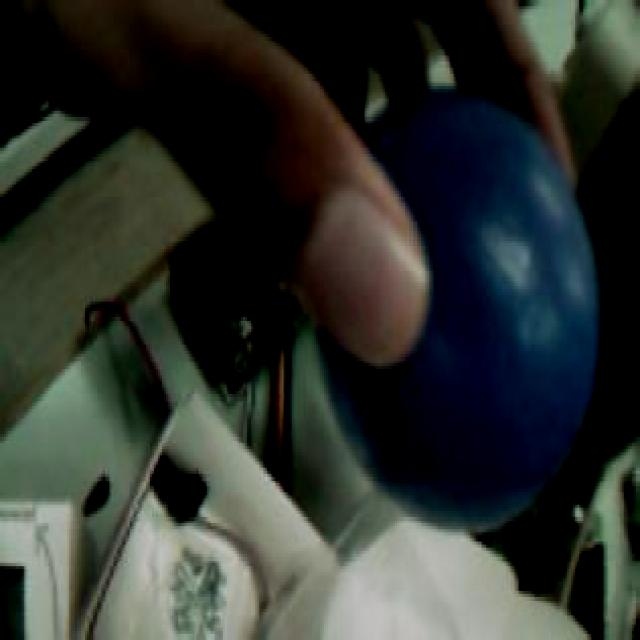BallPurple: (317, 82, 602, 532)
